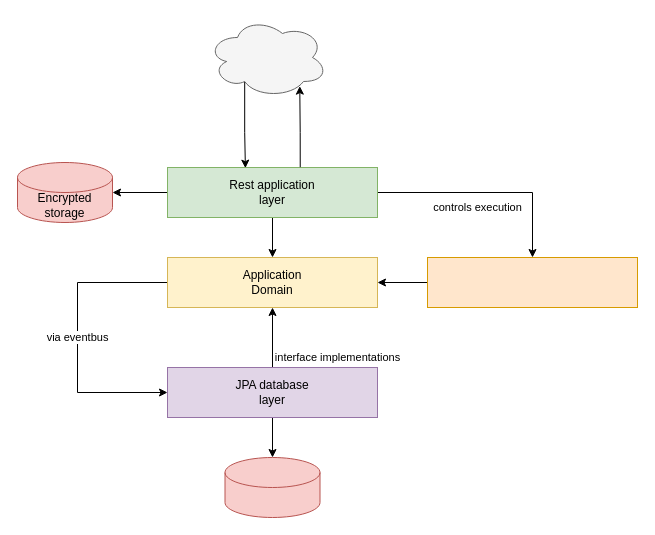
This 655x535 diagram has some shape labels left out. The shapes that lost their labels are listed below. From the top down, each one's box as (x1, y1, x2, y2) in pixels, then its label:
(426, 256, 638, 308): Business process models
(224, 456, 320, 518): MariaDB / H2
